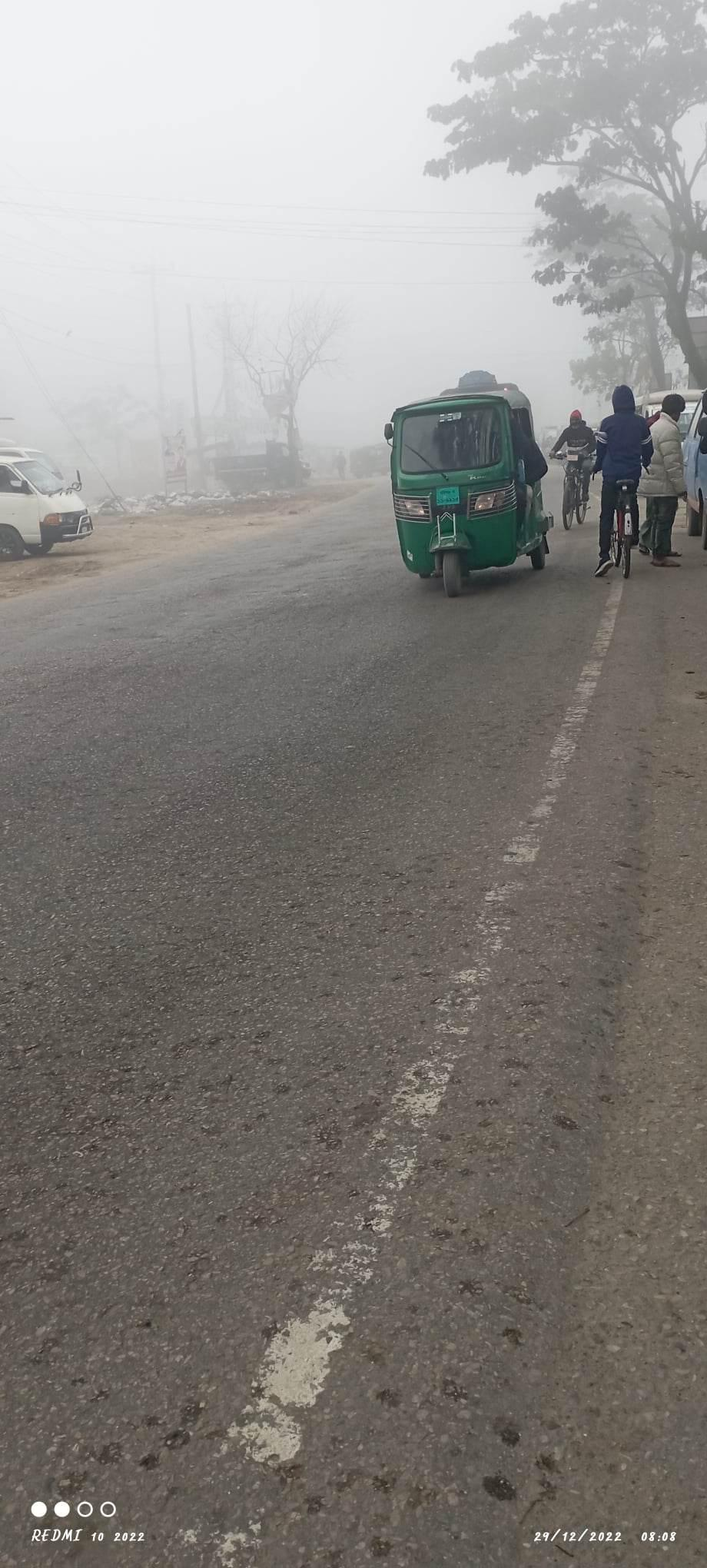Car: (3, 432, 111, 556)
